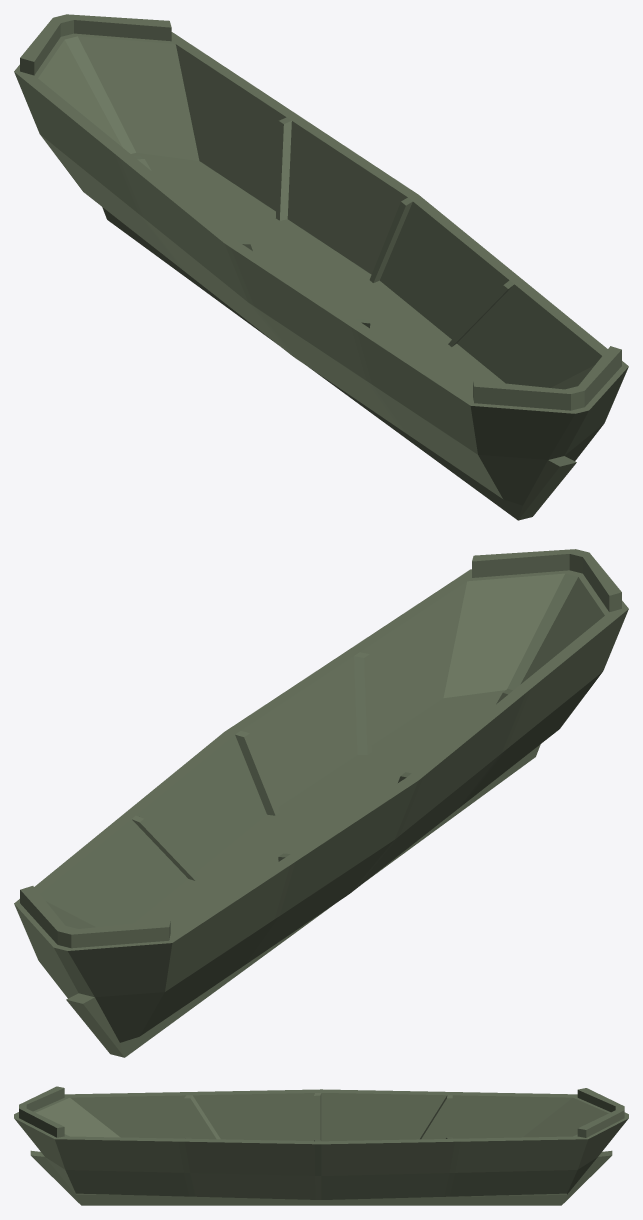
File: bigboat.fbx
3 renders of one model, top to bottom at view 1: azimuth 30°, elevation 25°; view 2: azimuth 150°, elevation 25°; view 3: azimuth 270°, elevation 25°, orthographic. The views are drawn at different scales.
Parts seen in each view (by area): view 1: BoatBig; view 2: BoatBig; view 3: BoatBig.
Part boxes in pixels (box(x1,y1,x2,y2)): BoatBig: box(14, 14, 628, 520); BoatBig: box(14, 549, 628, 1057); BoatBig: box(14, 1086, 628, 1205).
Bounding box in the file's own units: 74.1 × 60.42 × 347.
